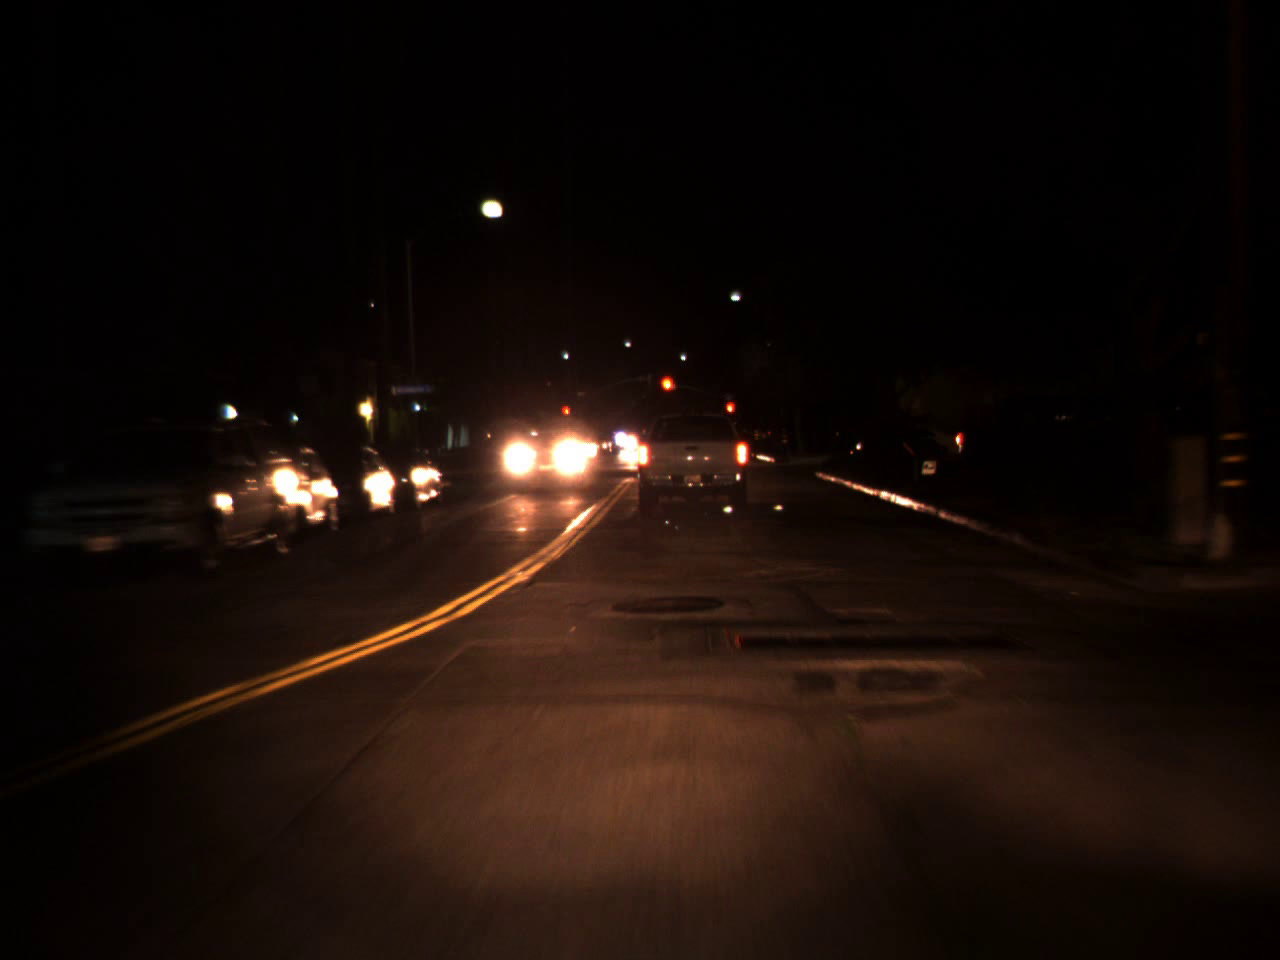stop: (659, 375, 675, 407), (560, 404, 572, 425), (725, 400, 735, 424)
